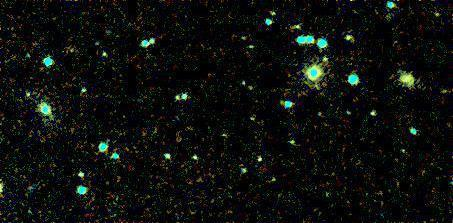star: (428, 78, 453, 108)
